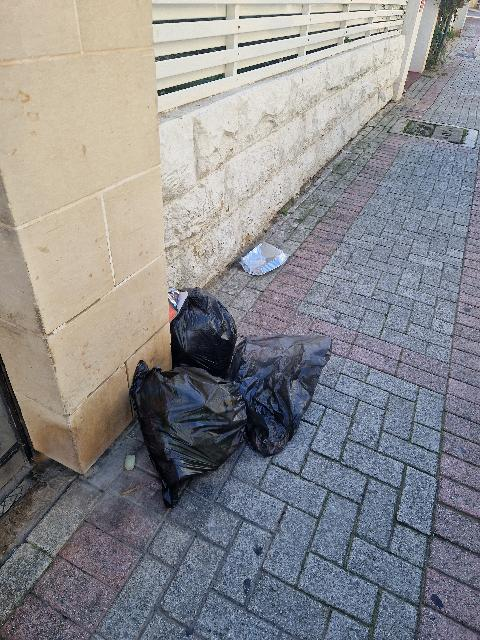Mixed -Black-: (130, 360, 247, 507), (227, 334, 331, 457), (170, 288, 237, 378)
Other: (240, 242, 289, 276)
